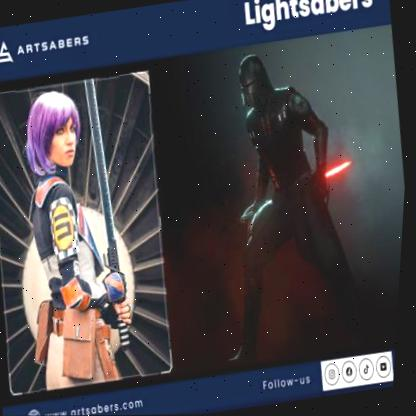sith_lightsaber: (232, 153, 364, 222)
